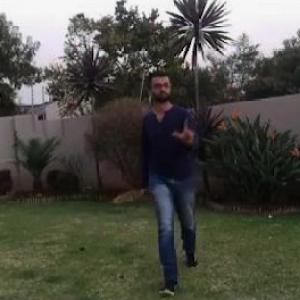land_hand: (170, 115, 200, 151)
